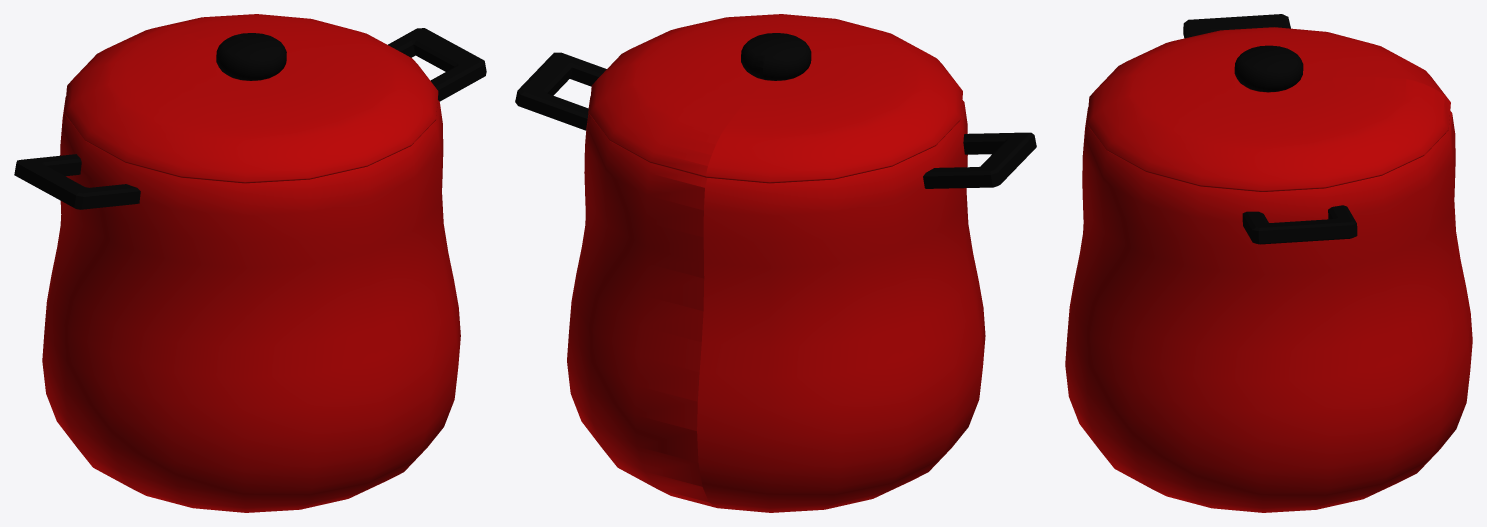
Rendered from Cacerola.FBX.
3 renders of one model, left to right at view 1: azimuth 30°, elevation 25°; view 2: azimuth 150°, elevation 25°; view 3: azimuth 270°, elevation 25°, orthographic. The views are drawn at different scales.
Parts seen in each view (by area): view 1: fraktal_58; view 2: fraktal_58; view 3: fraktal_58.
Part boxes in pixels (box(x1,y1,x2,y2)): fraktal_58: box(14, 14, 486, 512); fraktal_58: box(515, 14, 1036, 512); fraktal_58: box(1065, 14, 1472, 512).
Size of the model in its own units: 668 by 564 by 526.
